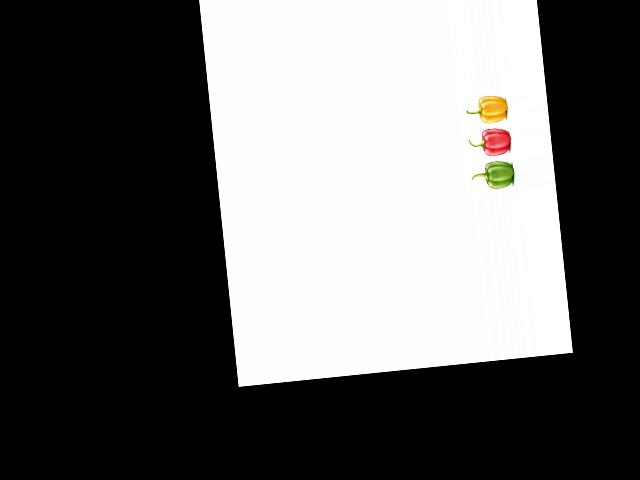bell_pepper: (470, 159, 518, 194)
